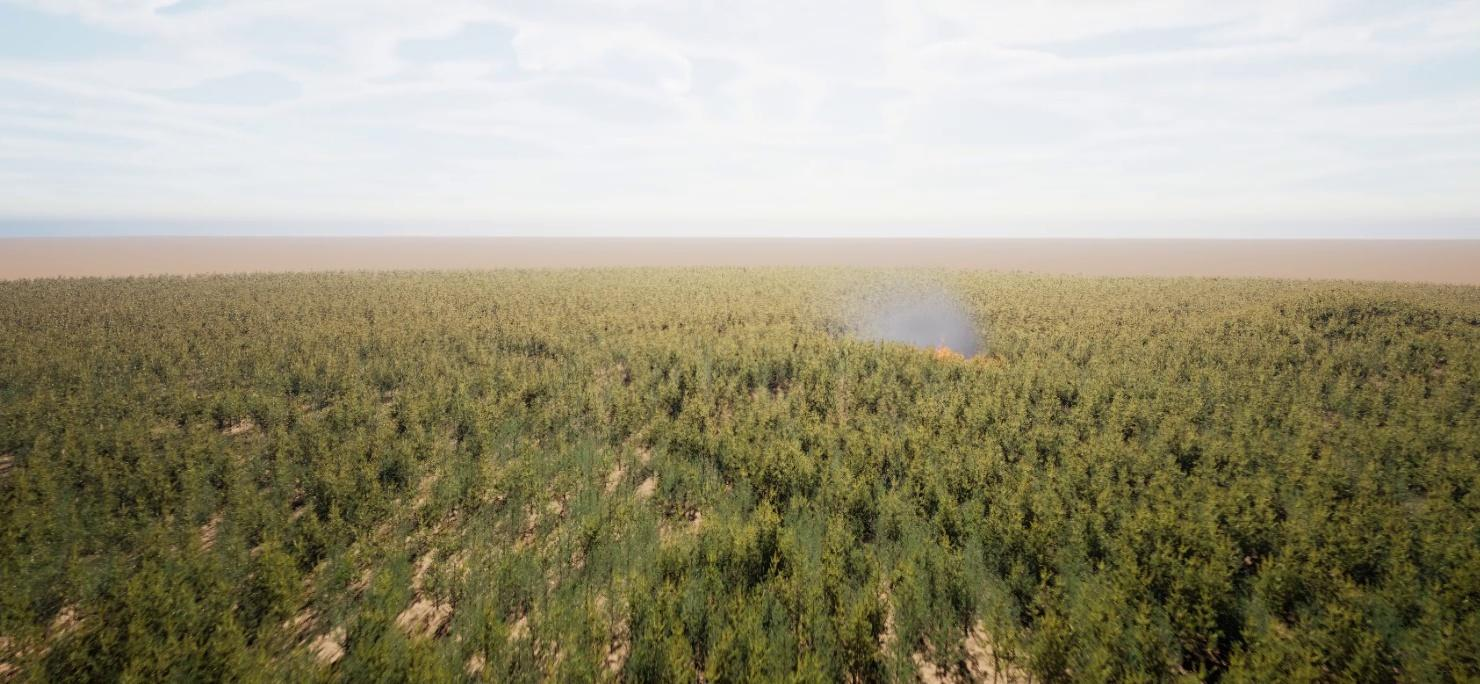smoke: (831, 276, 992, 359)
